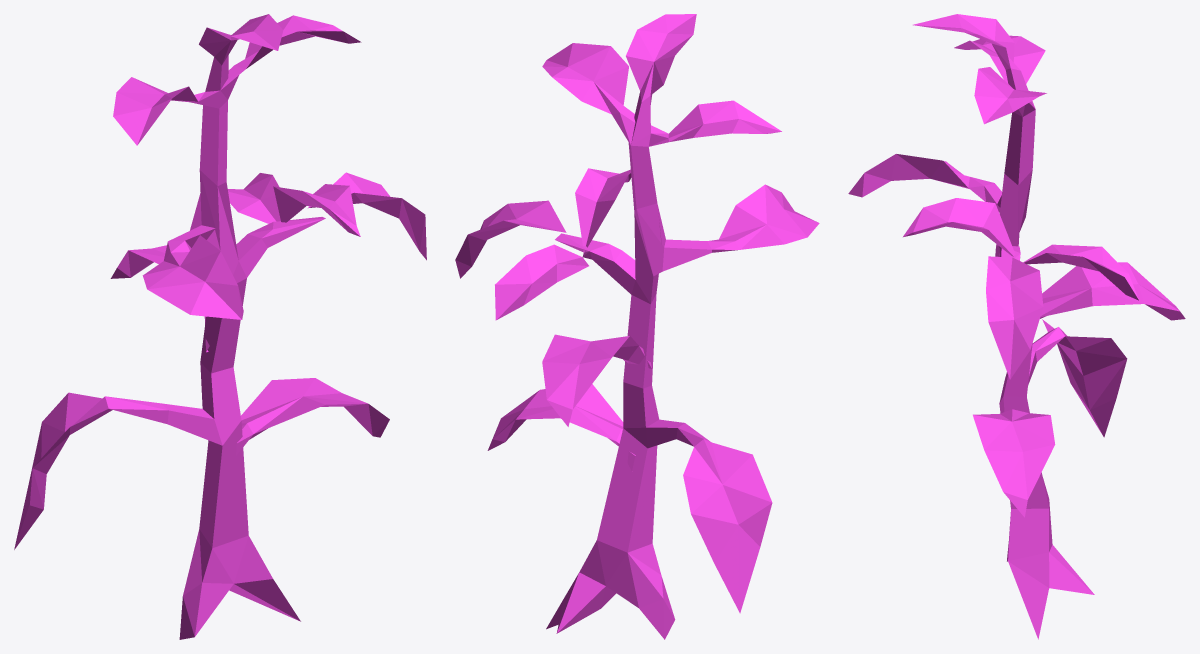
The model's file is SM_BellPepper_Seedling_A.fbx.
The picture shows the model from 3 angles, left to right: view 1: azimuth 30°, elevation 25°; view 2: azimuth 150°, elevation 25°; view 3: azimuth 270°, elevation 25°; orthographic projection. The views are drawn at different scales.
Parts seen in each view (by area): view 1: SM_Pepper_Seedling_A; view 2: SM_Pepper_Seedling_A; view 3: SM_Pepper_Seedling_A.
Boxes of the visible parts, x1,y1,x2,y2 form: SM_Pepper_Seedling_A: (14,14,426,639); SM_Pepper_Seedling_A: (455,14,819,639); SM_Pepper_Seedling_A: (848,14,1185,639).
Bounding box in the file's own units: 0.3267 × 0.5518 × 0.2918.
